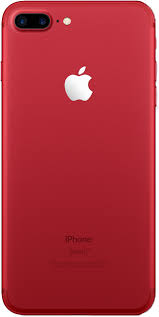iphone: (1, 1, 159, 317)
